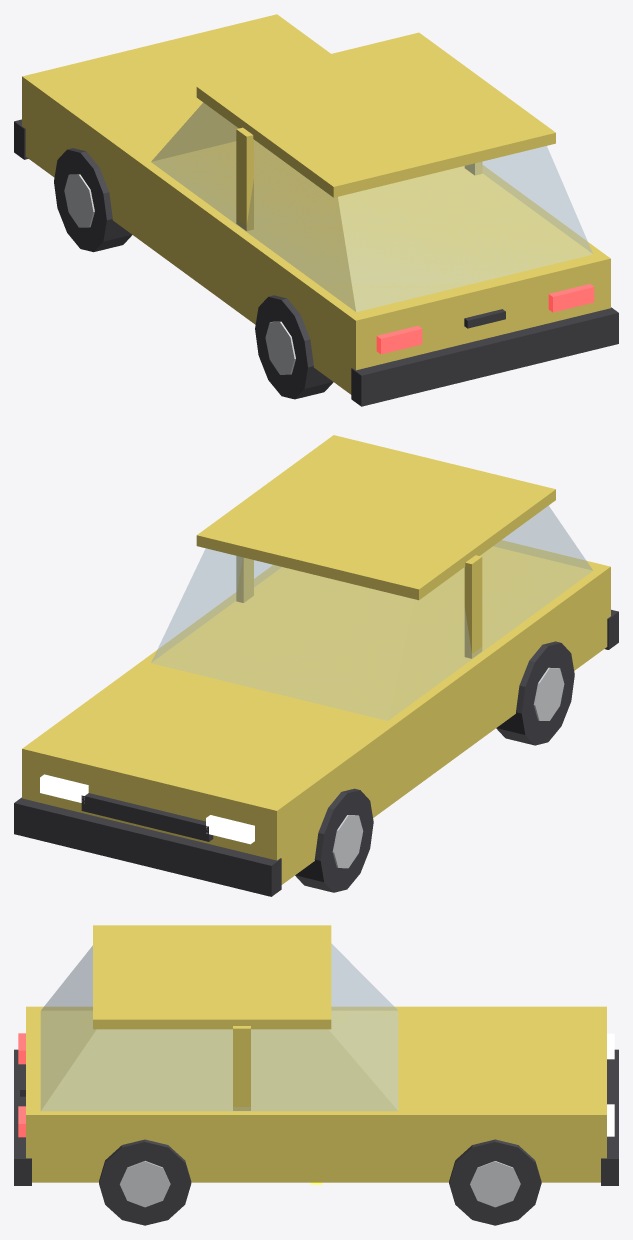
File: car_hatchback_yellow.glb
3 renders of one model, top to bottom at view 1: azimuth 30°, elevation 25°; view 2: azimuth 150°, elevation 25°; view 3: azimuth 270°, elevation 25°, orthographic. The views are drawn at different scales.
Visible parts, largest first — view 1: body, wheel_fl, wheel_rl; view 2: body, wheel_fl, wheel_rl; view 3: body, wheel_fr, wheel_rr.
Boxes of the visible parts, box(x1,y1,x2,y2) form: body: box(14, 14, 618, 406); wheel_fl: box(54, 148, 132, 252); wheel_rl: box(255, 295, 333, 399); body: box(14, 435, 618, 896); wheel_fl: box(295, 788, 373, 892); wheel_rl: box(496, 641, 574, 745); body: box(14, 925, 618, 1185); wheel_fr: box(449, 1139, 541, 1225); wheel_rr: box(99, 1139, 191, 1225).
Bounding box in the file's own units: 1.82 × 1.53 × 4.06.
